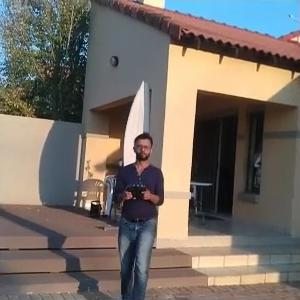follow: (108, 128, 168, 298)
